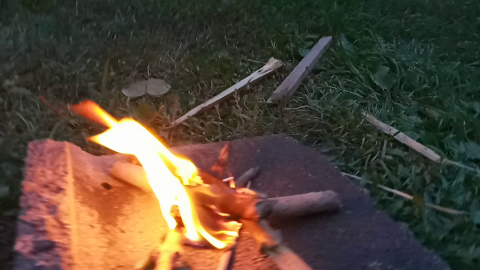fire: (68, 94, 247, 240)
